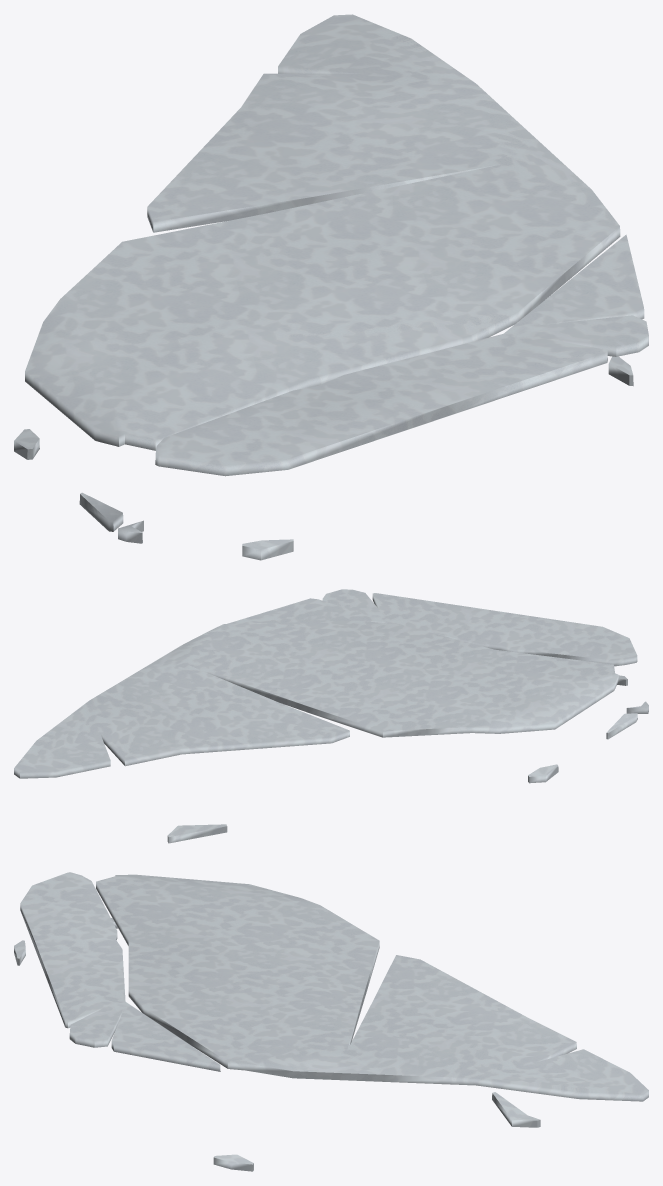
Rendered from Cliff_9_Snow.fbx.
3 views of the same model, one above another, from view 1: azimuth 30°, elevation 25°; view 2: azimuth 150°, elevation 25°; view 3: azimuth 270°, elevation 25° (orthographic). The views are drawn at different scales.
Parts seen in each view (by area): view 1: Cliff_9_Snow; view 2: Cliff_9_Snow; view 3: Cliff_9_Snow.
Part boxes in pixels (x1,y1,x2,y2): Cliff_9_Snow: [14, 14, 648, 560]; Cliff_9_Snow: [14, 589, 648, 843]; Cliff_9_Snow: [14, 872, 648, 1171].
Size of the model in its own units: 5289 by 1288 by 6557.
